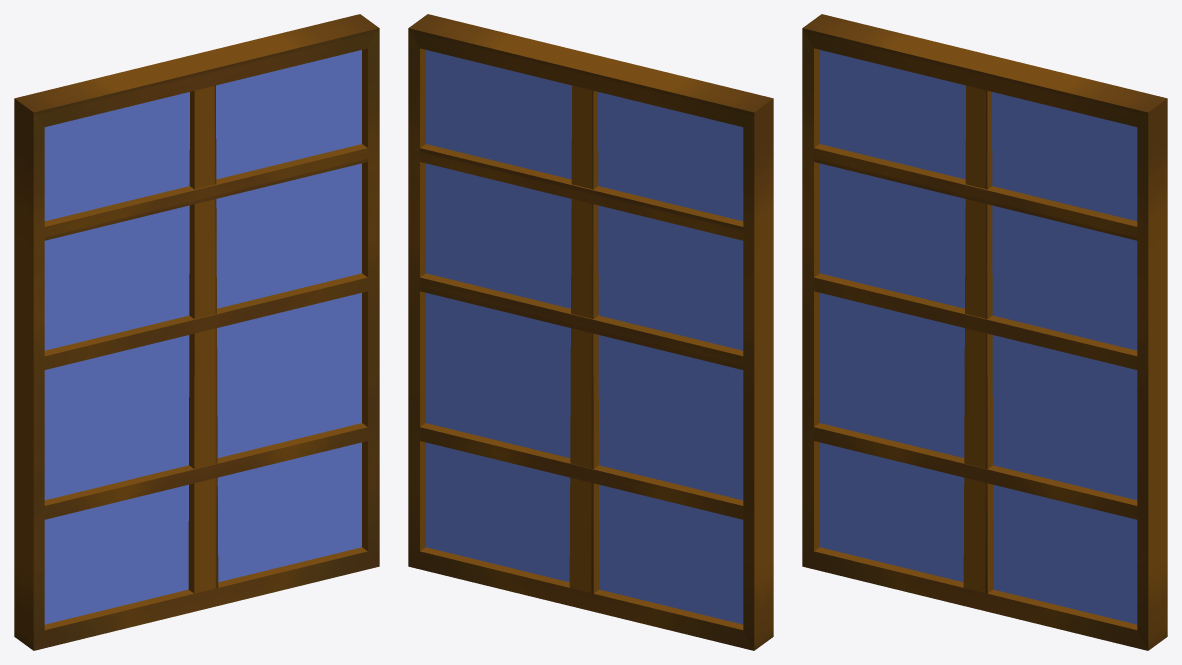
Rendered from Windows 2.glb.
3 views of the same model, side by side, from view 1: azimuth 30°, elevation 25°; view 2: azimuth 150°, elevation 25°; view 3: azimuth 330°, elevation 25° (orthographic).
Visible parts, largest first — view 1: Cube.001; view 2: Cube.001; view 3: Cube.001.
Part boxes in pixels (bbox=[...]): Cube.001: bbox=[14, 14, 379, 650]; Cube.001: bbox=[408, 14, 773, 650]; Cube.001: bbox=[802, 14, 1167, 650].
Size of the model in its own units: 1.2 by 1.78 by 0.116.
Materials: 2 (1 with a texture image).
